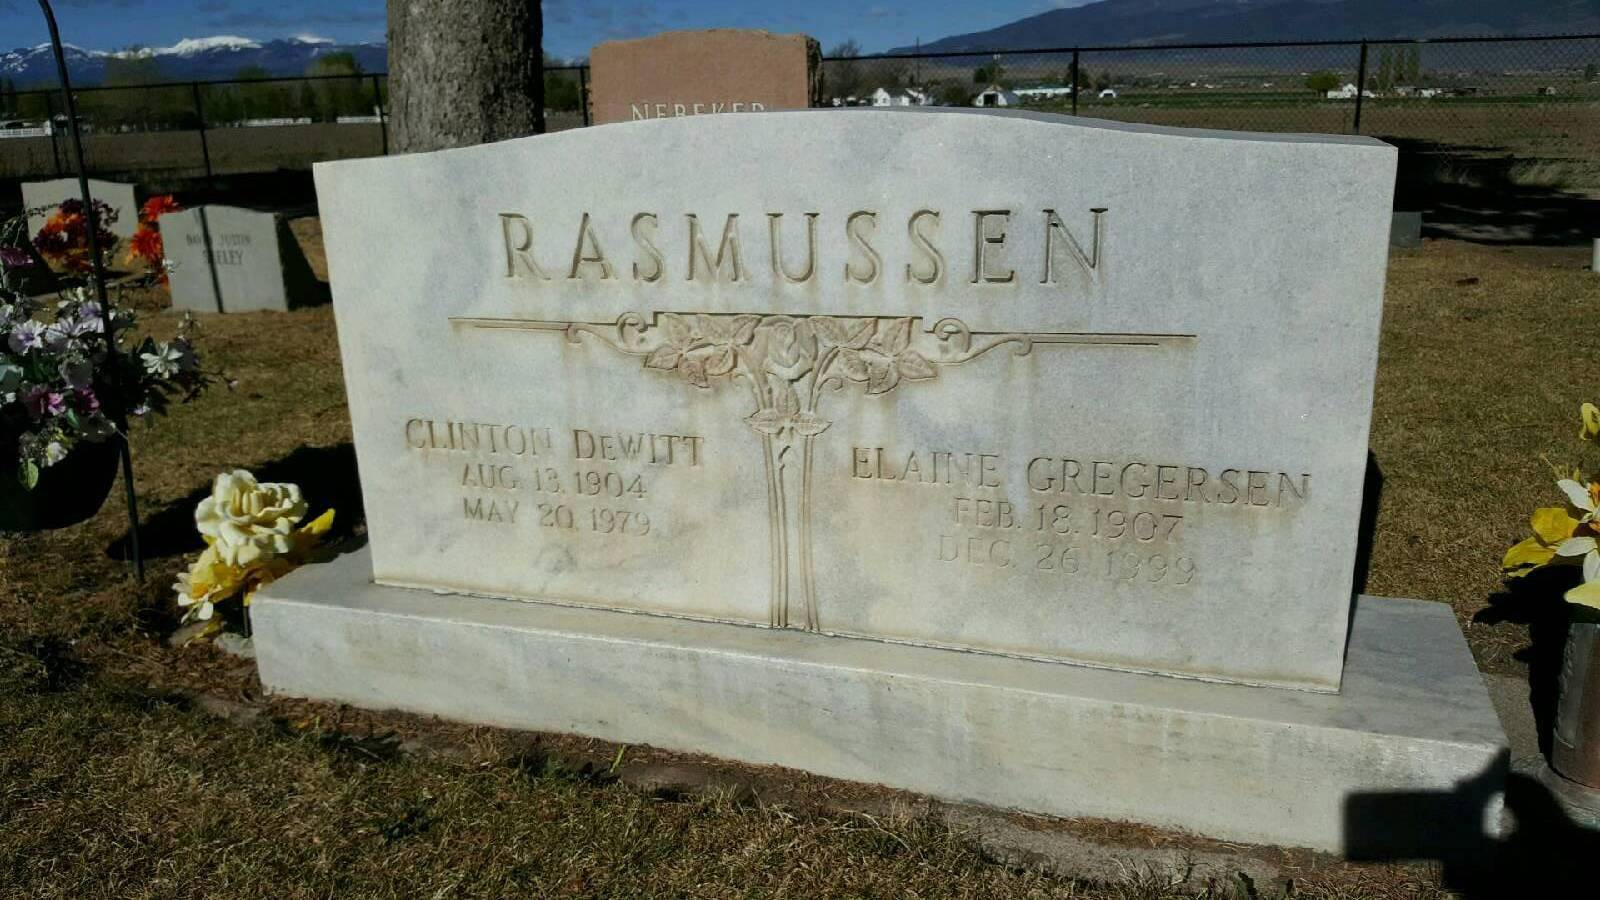upright: (251, 110, 1508, 877)
